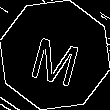M_N: (26, 25, 84, 85)
